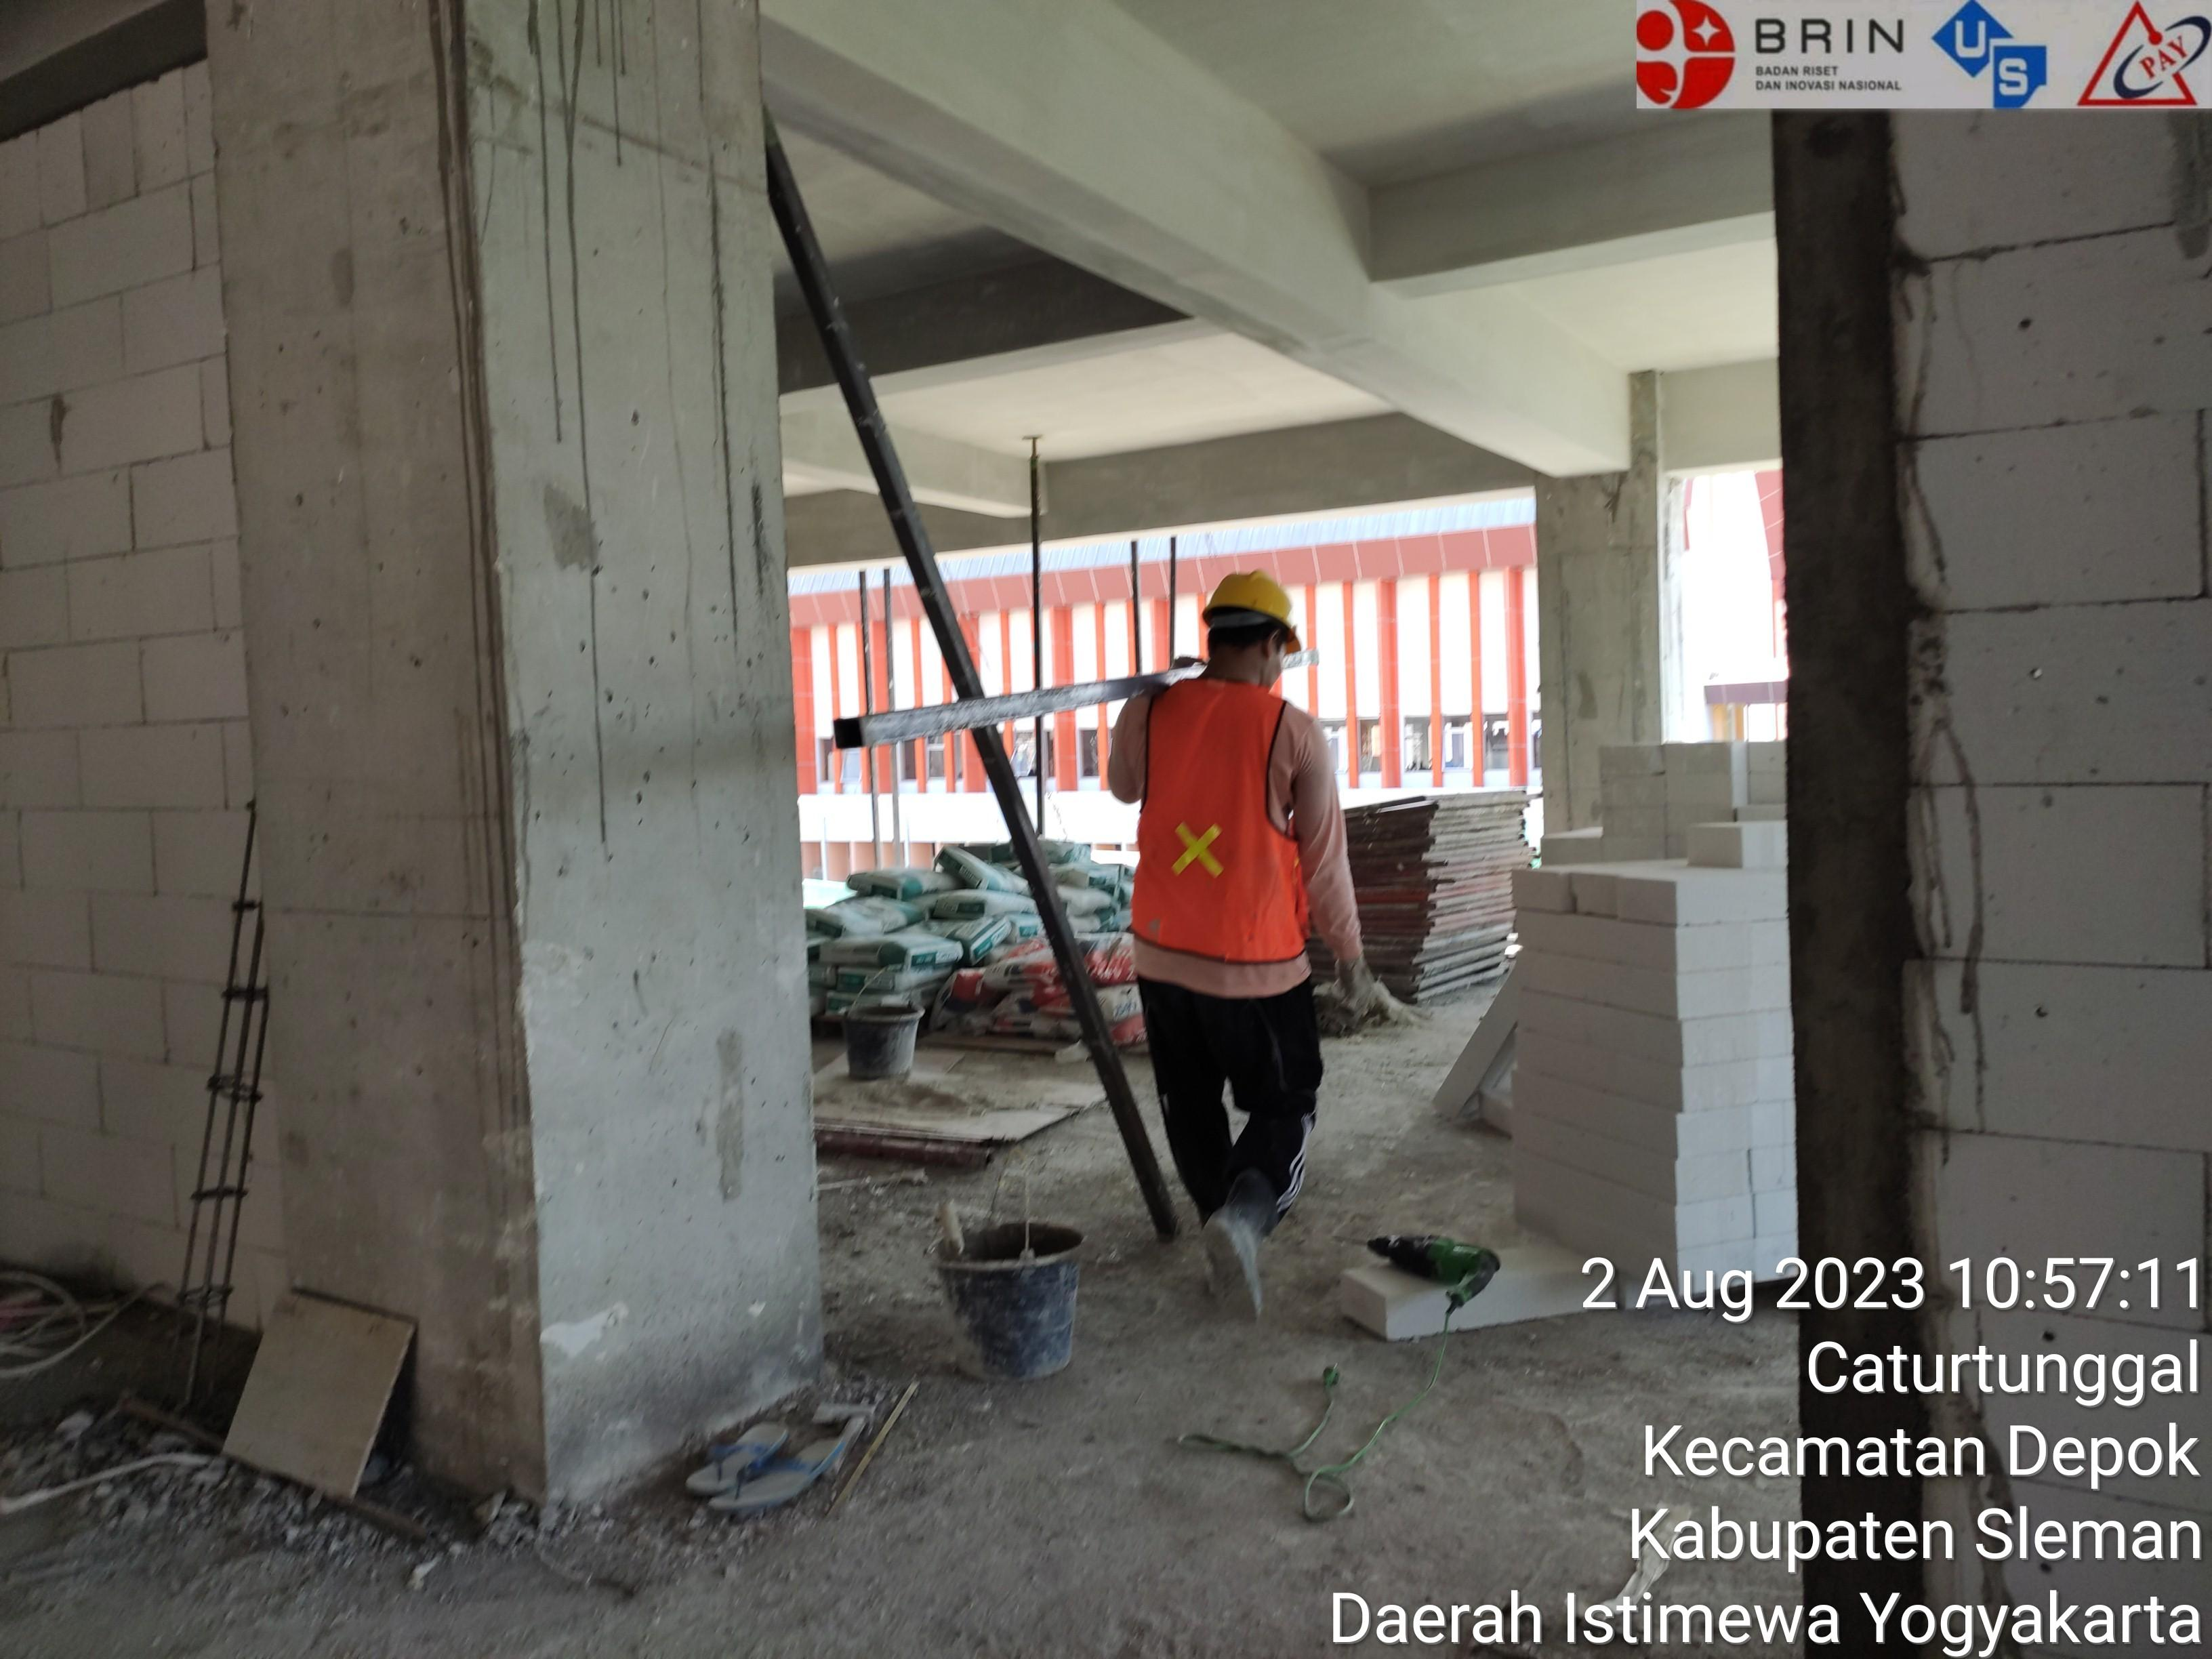hat: (1174, 540, 1339, 702)
vest: (1113, 648, 1353, 1033)
